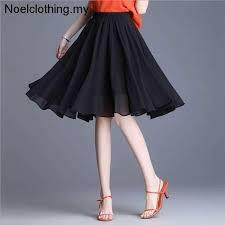skirt: (23, 5, 190, 120)
